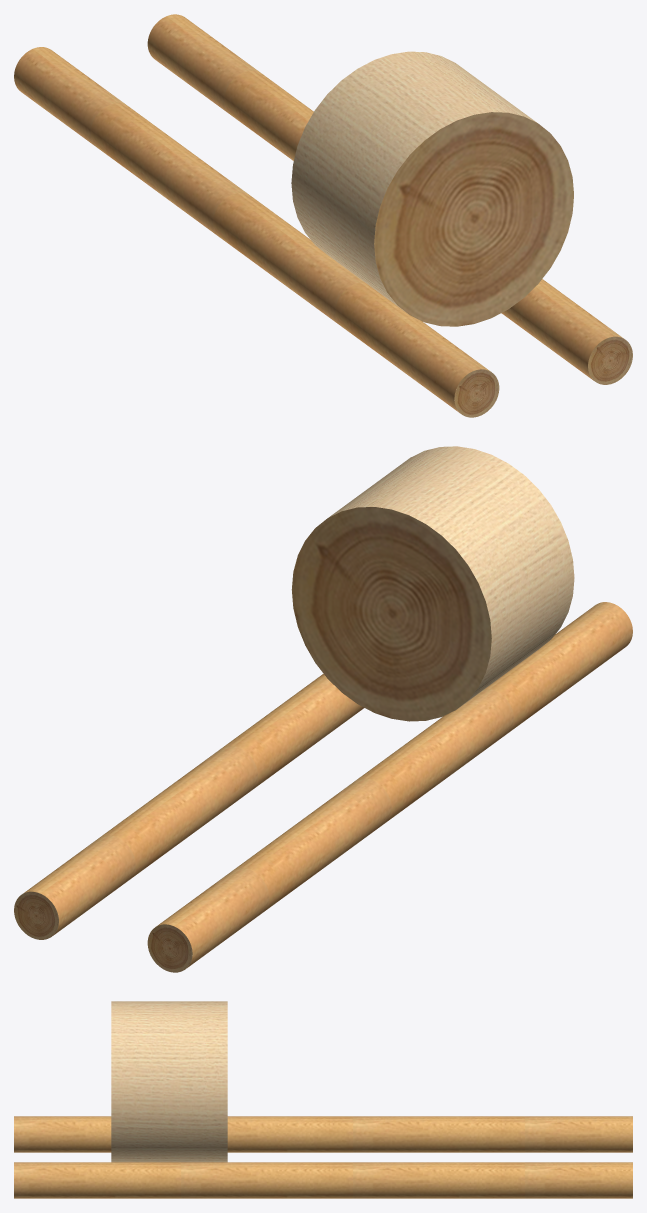
Rendered from yuanzhuX.gltf.
3 views of the same model, one above another, from view 1: azimuth 30°, elevation 25°; view 2: azimuth 150°, elevation 25°; view 3: azimuth 270°, elevation 25° (orthographic). The views are drawn at different scales.
Parts seen in each view (by area): view 1: 对象006; view 2: 对象006; view 3: 对象006.
Part boxes in pixels (x1,y1,x2,y2): 对象006: (14, 14, 632, 417); 对象006: (14, 446, 632, 972); 对象006: (14, 1001, 632, 1198).
Bounding box in the file's own units: 39.4 × 44.27 × 150.
1 material, 1 textured.
